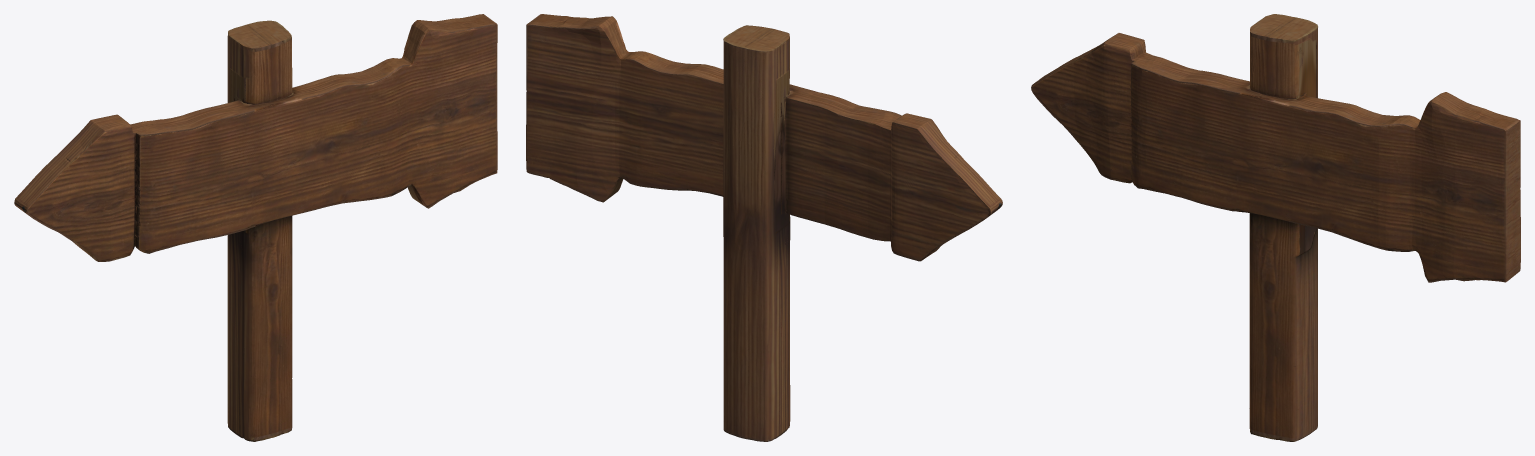
Rendered from un_cartel_de_madera_e_0612144335_texture.fbx.
The picture shows the model from 3 angles, left to right: view 1: azimuth 30°, elevation 25°; view 2: azimuth 150°, elevation 25°; view 3: azimuth 330°, elevation 25°; orthographic projection. The views are drawn at different scales.
Visible parts, largest first — view 1: temp; view 2: temp; view 3: temp.
Part boxes in pixels (left/top/right/bottom): temp: left=14, top=14, right=497, bottom=441; temp: left=526, top=14, right=1002, bottom=441; temp: left=1031, top=14, right=1520, bottom=441.
Bounding box in the file's own units: 200 × 161 × 23.99.
Materials: 1 (1 with a texture image).
